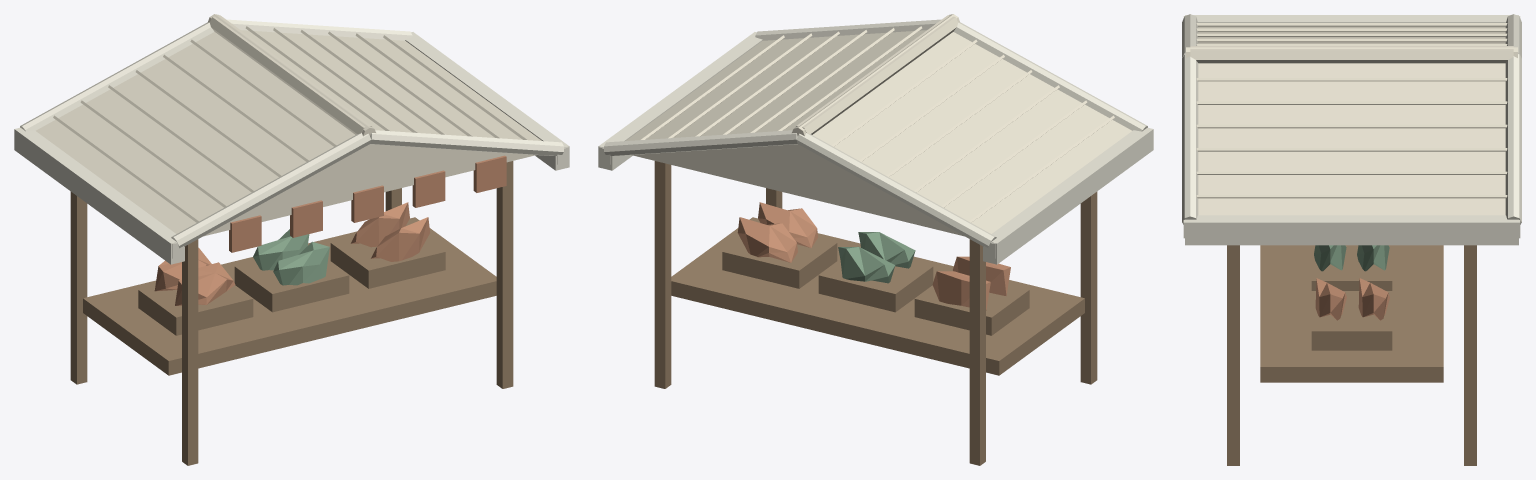
3 views of the same model, side by side, from view 1: azimuth 30°, elevation 25°; view 2: azimuth 150°, elevation 25°; view 3: azimuth 270°, elevation 25° (orthographic). The views are drawn at different scales.
Bounding box in the file's own units: 4.56 × 3.41 × 3.15.
